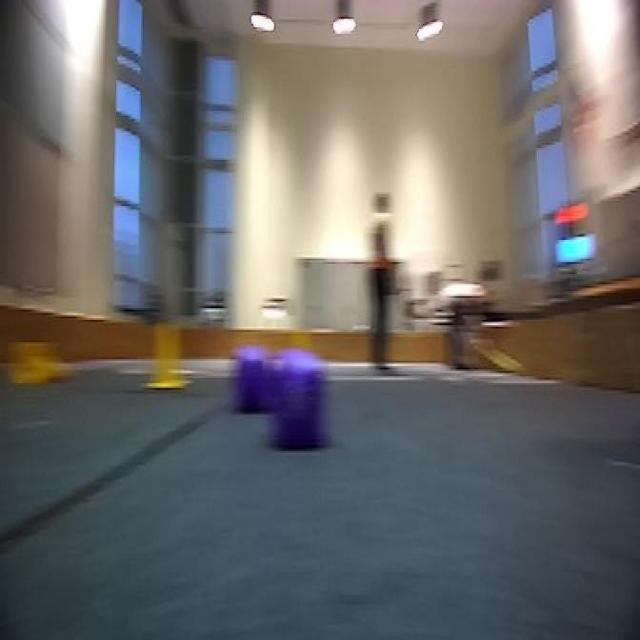frc_cone: (145, 324, 190, 392), (15, 337, 70, 388)
frc_cube: (272, 356, 323, 442), (236, 349, 272, 414)
